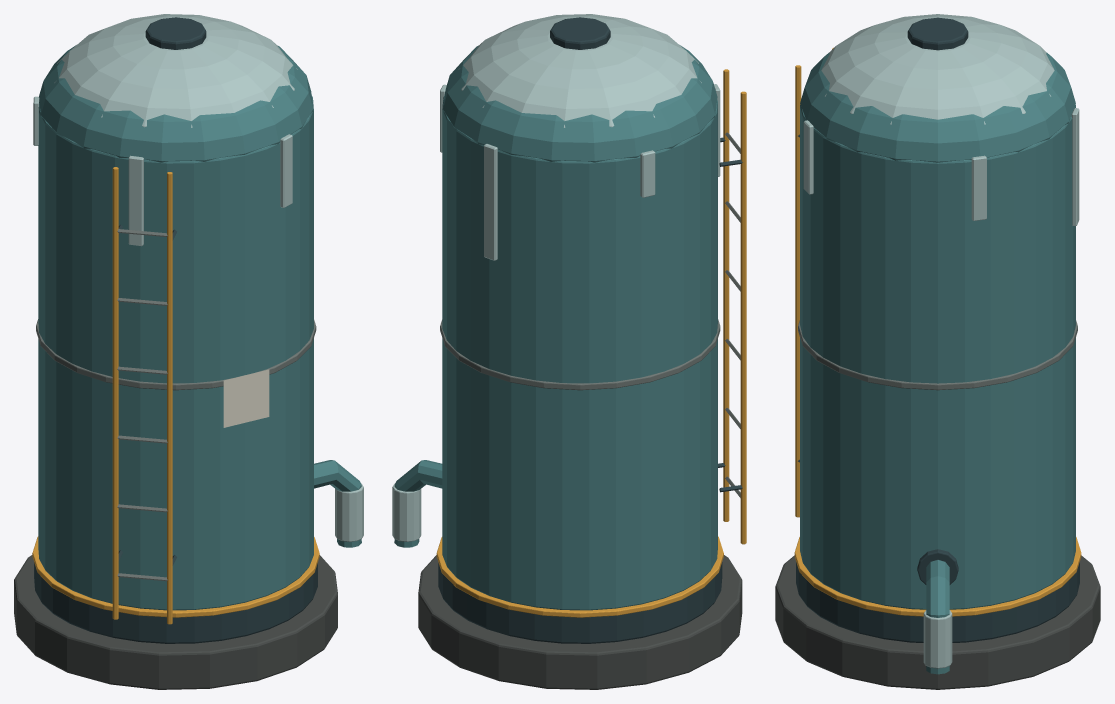
The model's file is frost-silo.glb.
3 renders of one model, left to right at view 1: azimuth 30°, elevation 25°; view 2: azimuth 150°, elevation 25°; view 3: azimuth 270°, elevation 25°, orthographic.
Visible parts, largest first — view 1: frost-silo__frost-silo__petrol, frost-silo__frost-silo__frost, frost-silo__frost-silo__concrete-dark, frost-silo__frost-silo__steel, frost-silo__frost-silo__amber, frost-silo__frost-silo__hardware, frost-silo__frost-silo__decal-ivory; view 2: frost-silo__frost-silo__petrol, frost-silo__frost-silo__frost, frost-silo__frost-silo__concrete-dark, frost-silo__frost-silo__steel, frost-silo__frost-silo__amber, frost-silo__frost-silo__hardware; view 3: frost-silo__frost-silo__petrol, frost-silo__frost-silo__frost, frost-silo__frost-silo__concrete-dark, frost-silo__frost-silo__steel, frost-silo__frost-silo__amber, frost-silo__frost-silo__hardware.
Boxes of the visible parts, bbox=[...] form: frost-silo__frost-silo__petrol: bbox=[38, 45, 361, 610]; frost-silo__frost-silo__frost: bbox=[33, 14, 363, 541]; frost-silo__frost-silo__concrete-dark: bbox=[14, 555, 337, 689]; frost-silo__frost-silo__steel: bbox=[34, 17, 317, 643]; frost-silo__frost-silo__amber: bbox=[32, 167, 319, 624]; frost-silo__frost-silo__hardware: bbox=[36, 229, 316, 581]; frost-silo__frost-silo__decal-ivory: bbox=[223, 369, 269, 427]; frost-silo__frost-silo__petrol: bbox=[394, 45, 717, 610]; frost-silo__frost-silo__frost: bbox=[392, 14, 720, 541]; frost-silo__frost-silo__concrete-dark: bbox=[418, 555, 742, 689]; frost-silo__frost-silo__steel: bbox=[438, 17, 742, 643]; frost-silo__frost-silo__amber: bbox=[436, 69, 746, 617]; frost-silo__frost-silo__hardware: bbox=[440, 132, 740, 497]; frost-silo__frost-silo__petrol: bbox=[800, 53, 1075, 674]; frost-silo__frost-silo__frost: bbox=[803, 14, 1079, 668]; frost-silo__frost-silo__concrete-dark: bbox=[775, 555, 1100, 689]; frost-silo__frost-silo__steel: bbox=[796, 17, 1079, 642]; frost-silo__frost-silo__amber: bbox=[794, 47, 1081, 616]; frost-silo__frost-silo__hardware: bbox=[798, 320, 1077, 390].
Bounding box in the file's own units: 2.74 × 4.74 × 2.36.
